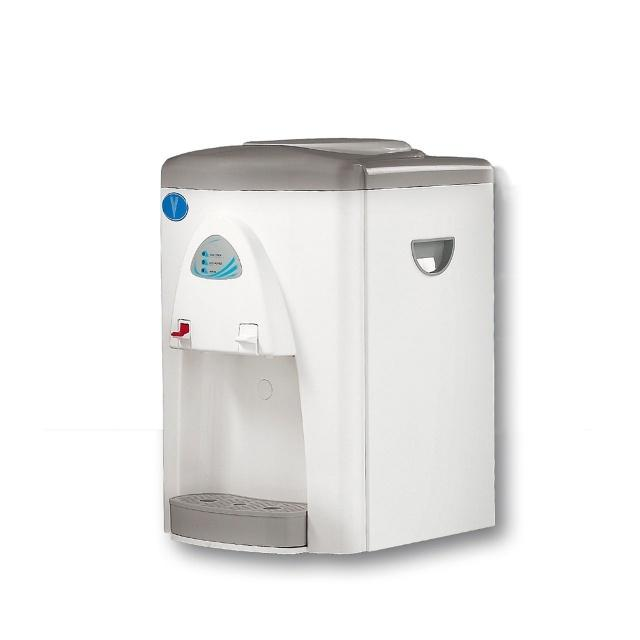Dispenser: (161, 136, 496, 554)
